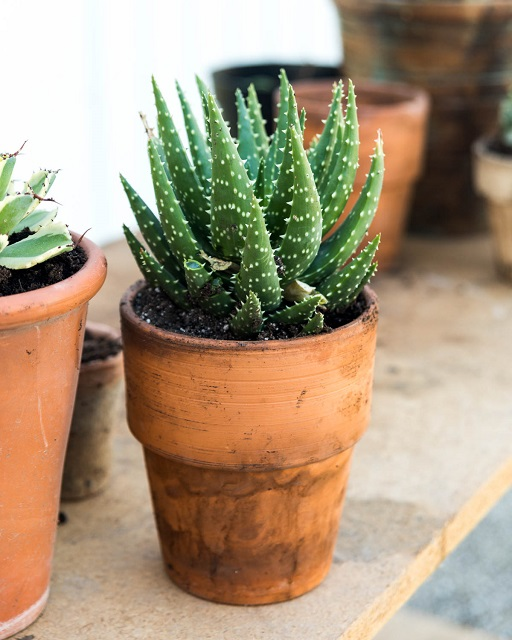plant: (132, 73, 380, 605), (1, 137, 109, 640)
